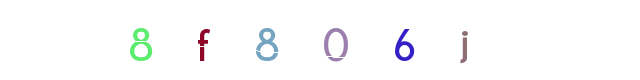0: (281, 0, 361, 80)
6: (333, 0, 413, 80)
8: (101, 0, 181, 80), (248, 0, 328, 80)
F: (162, 0, 242, 80)
J: (363, 0, 443, 80)
